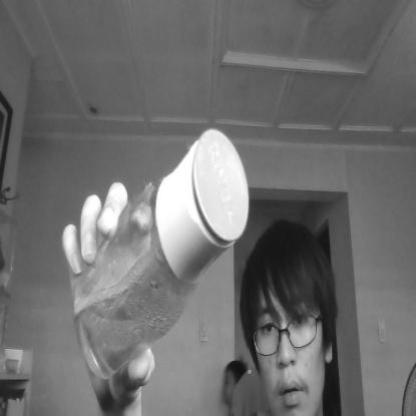Plastic Bottle: (71, 129, 253, 390)
